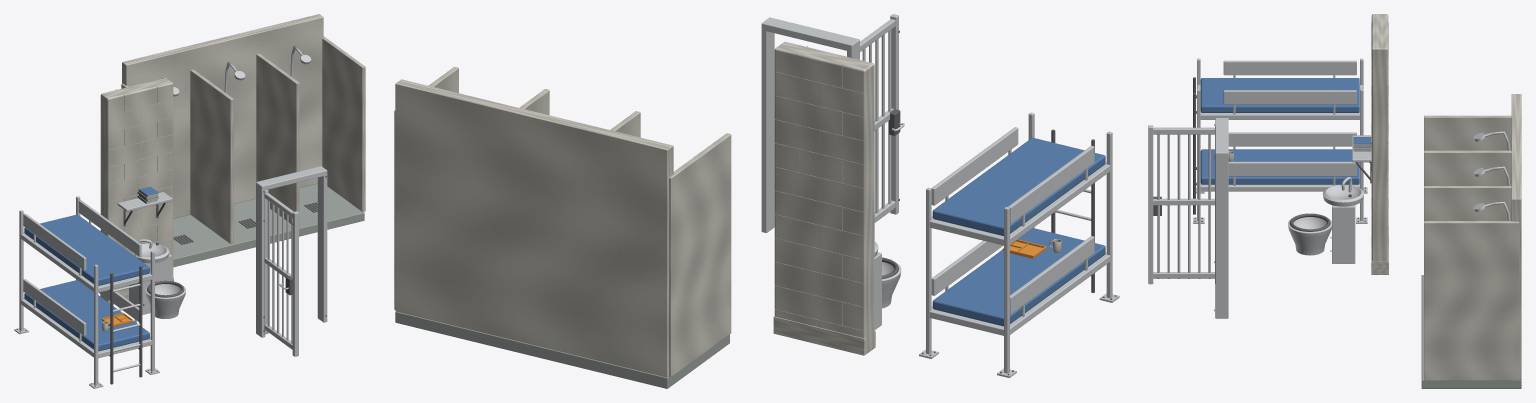
File: prison-complex-builder-cell-and-sanitary-detail-083458e6__25720.glb
3 views of the same model, side by side, from view 1: azimuth 30°, elevation 25°; view 2: azimuth 150°, elevation 25°; view 3: azimuth 270°, elevation 25° (orthographic). The views are drawn at different scales.
Visible parts, largest first — view 1: 005-shower-stall-row/1, 002-concrete-wall-straight/0, 000-cell-bunk/2, 005-shower-stall-row/0, 000-cell-bunk/0, 000-cell-bunk/3, 004-cell-door-barred-open/0, 001-toilet-sink-combo/0, 004-cell-door-barred-open/cell-door/steelPainted, 004-cell-door-barred-open/cell-door/steelGalv, 002-concrete-wall-straight/1, 000-cell-bunk/1 (+3 smaller); view 2: 005-shower-stall-row/1, 002-concrete-wall-straight/0, 000-cell-bunk/2, 000-cell-bunk/0, 000-cell-bunk/3, 004-cell-door-barred-open/0, 005-shower-stall-row/0, 002-concrete-wall-straight/1, 004-cell-door-barred-open/cell-door/steelPainted, 004-cell-door-barred-open/cell-door/steelGalv, 001-toilet-sink-combo/0; view 3: 005-shower-stall-row/1, 000-cell-bunk/3, 000-cell-bunk/2, 002-concrete-wall-straight/0, 001-toilet-sink-combo/0, 000-cell-bunk/0, 004-cell-door-barred-open/0, 004-cell-door-barred-open/cell-door/steelGalv, 004-cell-door-barred-open/cell-door/steelPainted, 005-shower-stall-row/0, 002-concrete-wall-straight/1, 005-shower-stall-row/2 (+2 smaller).
Boxes of the visible parts, box(x1,y1,x2,y2) form: 005-shower-stall-row/1: box(121, 14, 365, 243); 002-concrete-wall-straight/0: box(100, 78, 173, 301); 000-cell-bunk/2: box(24, 214, 149, 351); 005-shower-stall-row/0: box(173, 184, 364, 267); 000-cell-bunk/0: box(14, 196, 159, 388); 000-cell-bunk/3: box(23, 200, 141, 372); 004-cell-door-barred-open/0: box(256, 166, 327, 337); 001-toilet-sink-combo/0: box(129, 239, 186, 318); 004-cell-door-barred-open/cell-door/steelPainted: box(264, 190, 298, 356); 004-cell-door-barred-open/cell-door/steelGalv: box(267, 200, 292, 343); 002-concrete-wall-straight/1: box(100, 81, 173, 304); 000-cell-bunk/1: box(16, 266, 157, 386); 005-shower-stall-row/1: box(394, 66, 731, 377); 002-concrete-wall-straight/0: box(774, 41, 874, 353); 000-cell-bunk/2: box(932, 137, 1105, 326); 000-cell-bunk/0: box(919, 112, 1119, 377); 000-cell-bunk/3: box(931, 127, 1094, 314); 004-cell-door-barred-open/0: box(761, 17, 859, 232); 005-shower-stall-row/0: box(395, 311, 729, 388); 002-concrete-wall-straight/1: box(773, 46, 875, 355); 004-cell-door-barred-open/cell-door/steelPainted: box(860, 14, 898, 222); 004-cell-door-barred-open/cell-door/steelGalv: box(862, 30, 891, 213); 001-toilet-sink-combo/0: box(874, 242, 901, 329); 005-shower-stall-row/1: box(1424, 94, 1521, 380); 000-cell-bunk/3: box(1223, 60, 1356, 176); 000-cell-bunk/2: box(1200, 78, 1359, 184); 002-concrete-wall-straight/0: box(1371, 14, 1388, 261); 001-toilet-sink-combo/0: box(1288, 177, 1364, 263); 000-cell-bunk/0: box(1193, 58, 1367, 223); 004-cell-door-barred-open/0: box(1215, 118, 1228, 318); 004-cell-door-barred-open/cell-door/steelGalv: box(1157, 134, 1210, 278); 004-cell-door-barred-open/cell-door/steelPainted: box(1148, 125, 1215, 284); 005-shower-stall-row/0: box(1421, 275, 1521, 388); 002-concrete-wall-straight/1: box(1371, 22, 1388, 274); 005-shower-stall-row/2: box(1473, 131, 1510, 220).
Bounding box in the file's own units: 5.73 × 3 × 4.48.
6 materials, 1 textured.
